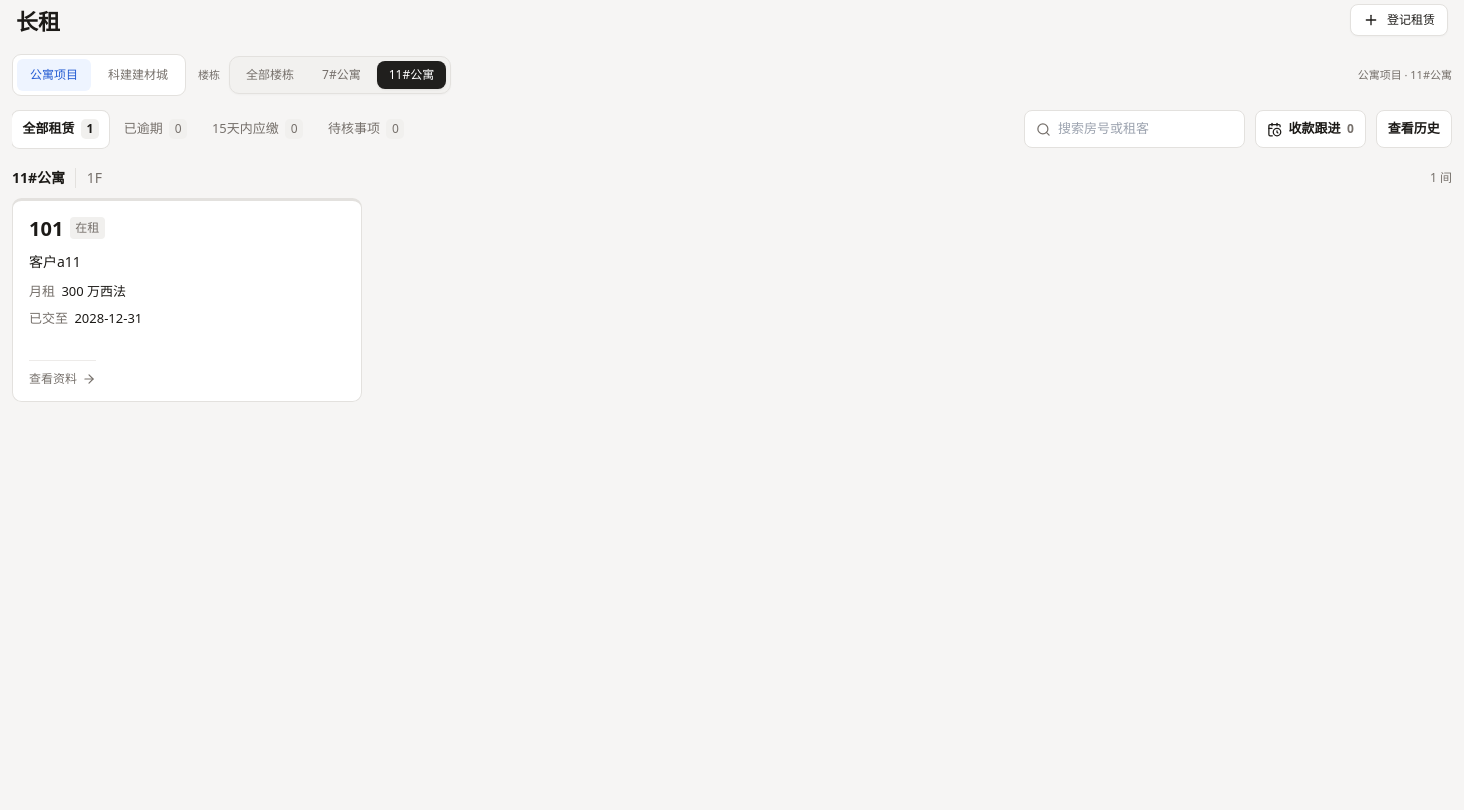
scopes buildings, rental cards and rental counts together; remembers each project's building
Expected: the element named "楼栋切换" does not show "第一栋"
Expected: the text "客户c1" is not shown
Click the button "科建建材城": click(138, 75) [95, 59, 181, 91]
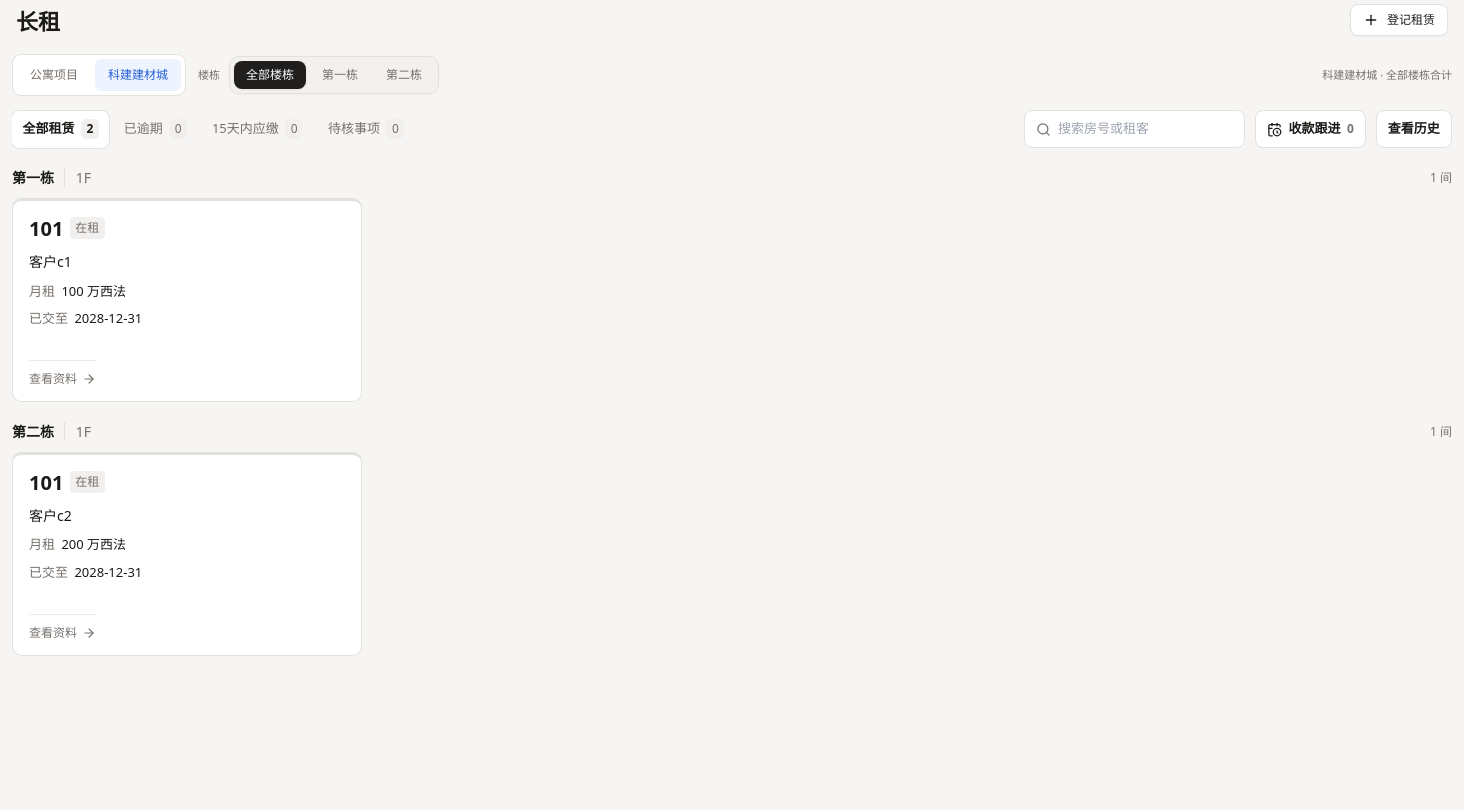
Result: the button named "楼栋切换" no longer shows "11#公寓"
Result: the text "客户c1" is shown at [29, 251, 72, 272]
Result: the text "客户c2" is shown at [29, 505, 72, 526]
Click the button "第二栋": click(404, 75) [374, 61, 434, 89]
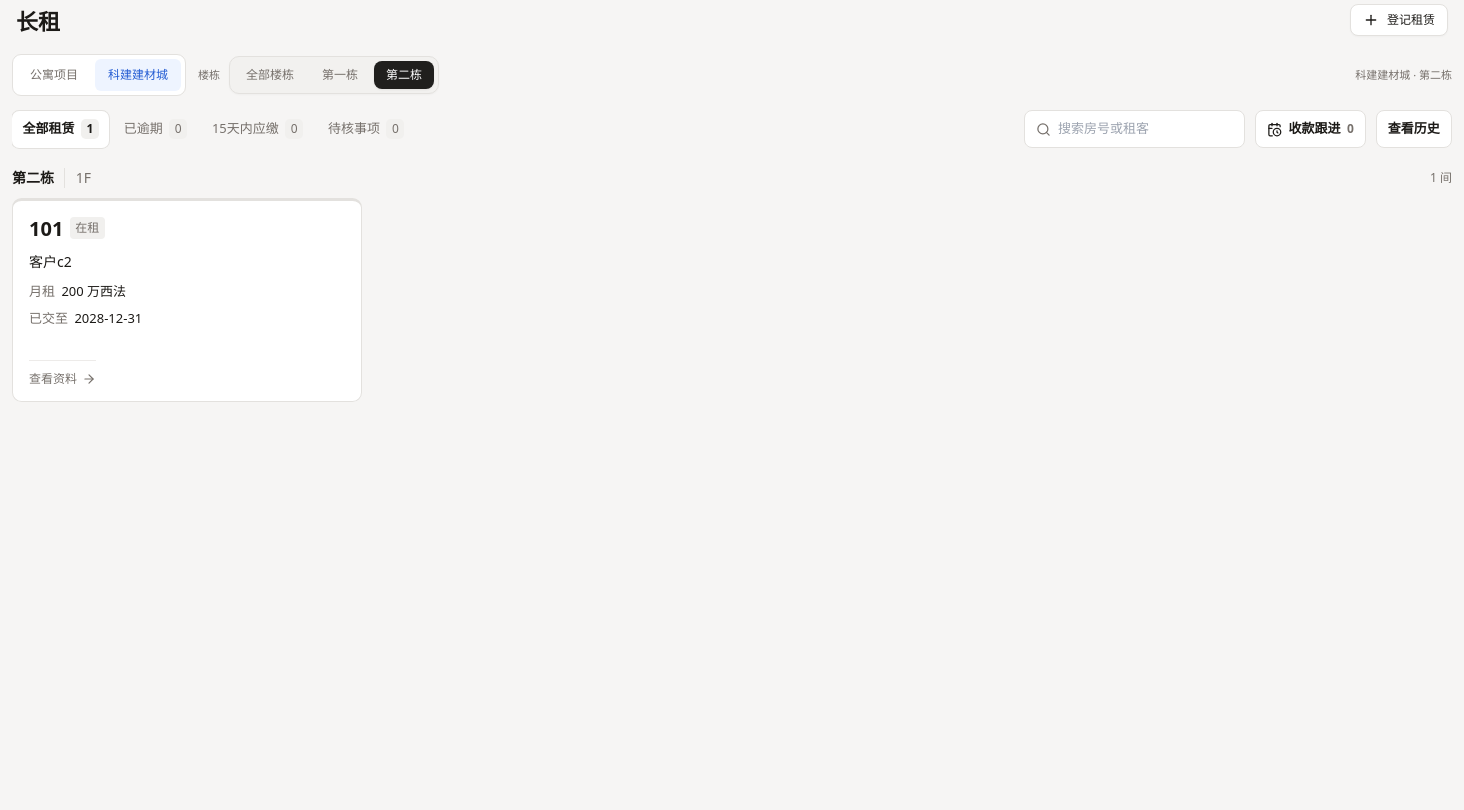
Result: the text "客户c1" is gone
Result: the button "全部租赁 1" is shown at [12, 111, 109, 148]
Click the button "公寓项目": click(54, 75) [17, 59, 91, 91]
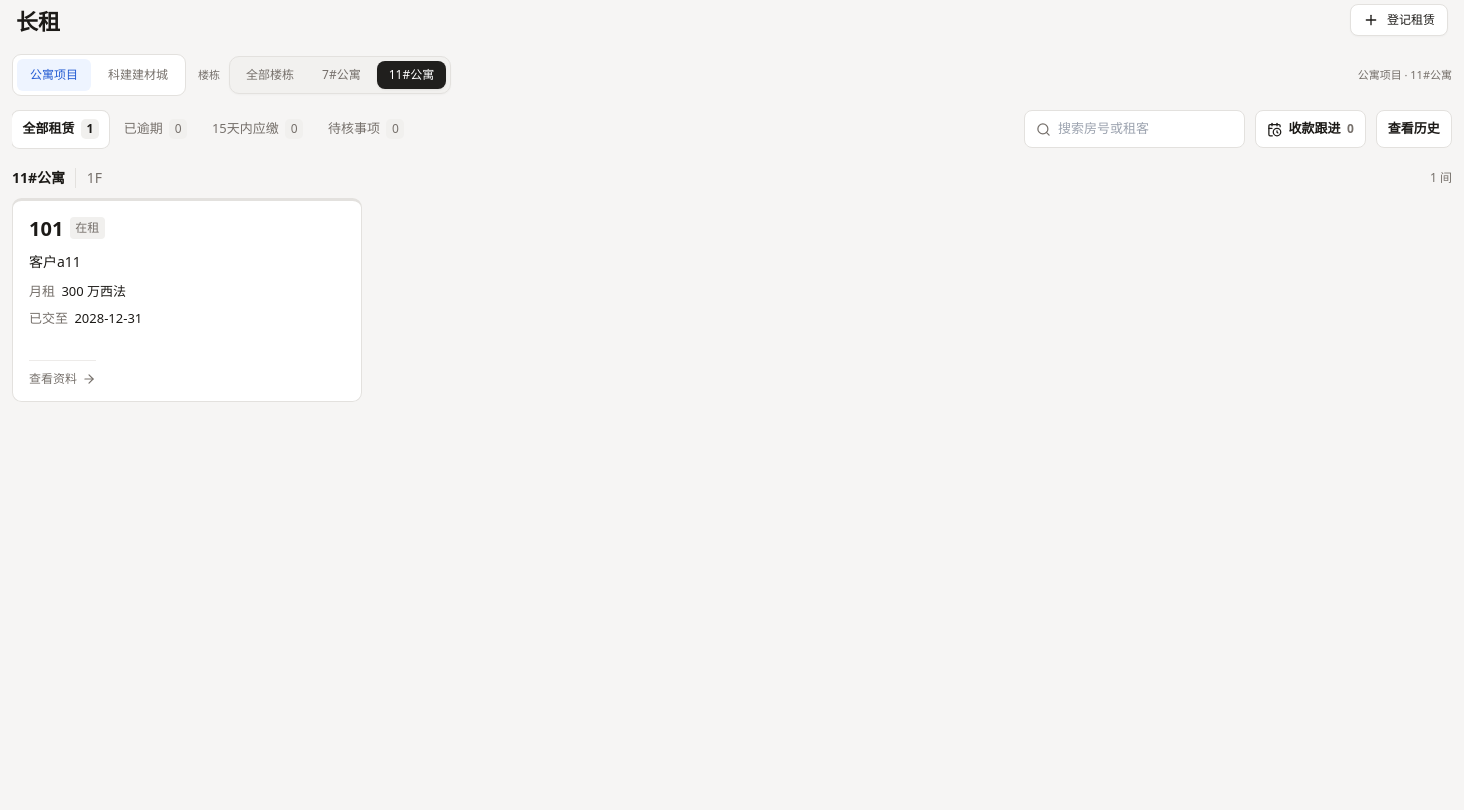
Click the button "科建建材城": click(138, 75) [95, 59, 181, 91]
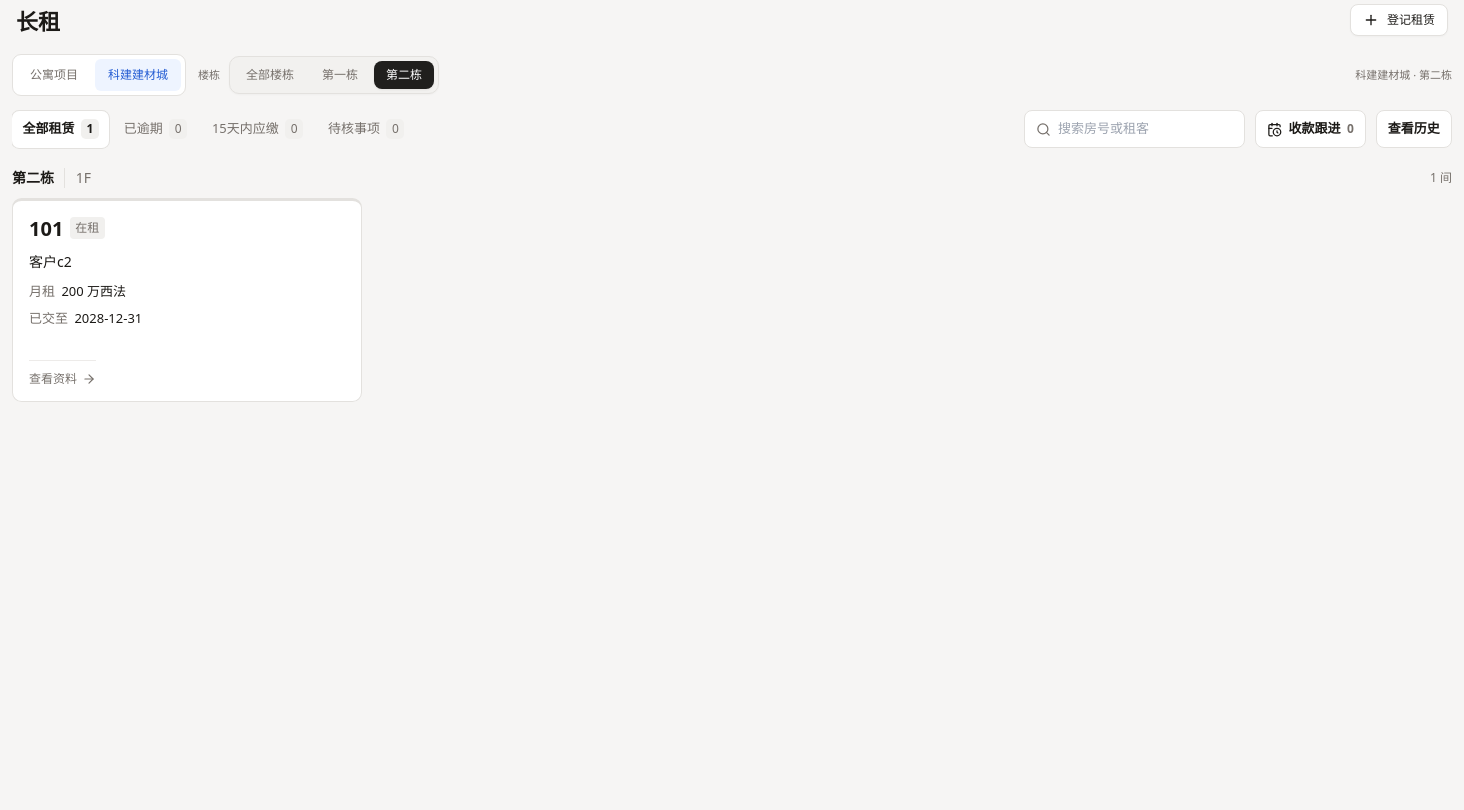
Expected: the text "客户c1" is not shown
Result: the text "客户c2" is shown at [29, 251, 72, 272]
